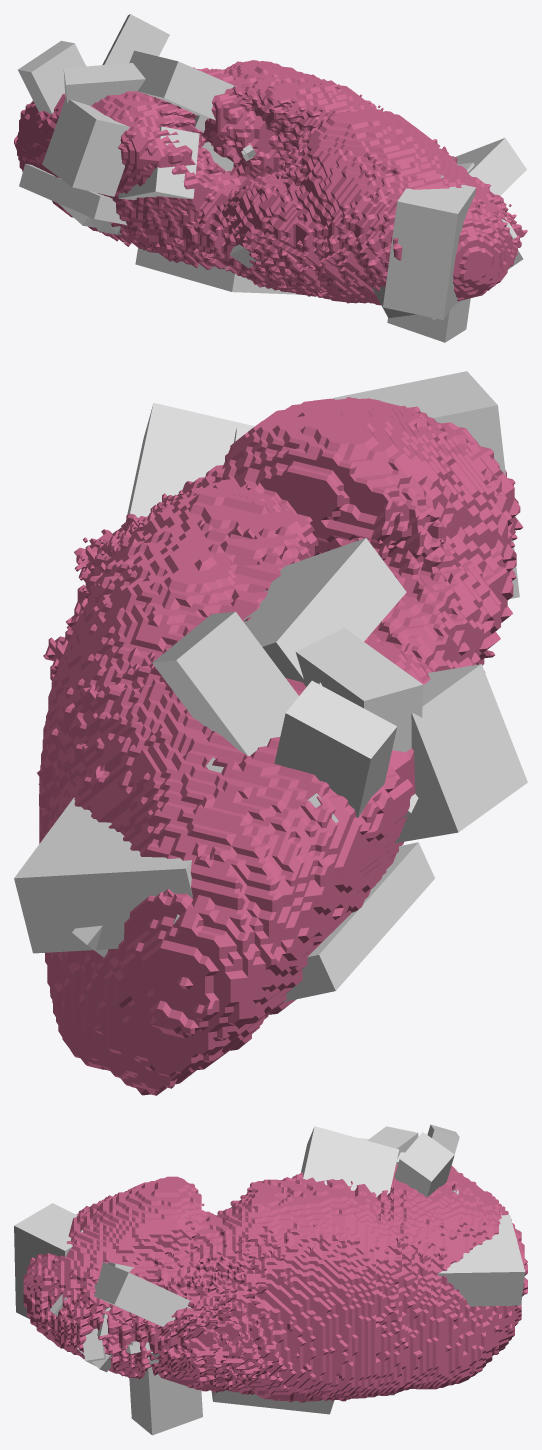
The model's file is non_hra_mapping.glb.
3 views of the same model, one above another, from view 1: azimuth 30°, elevation 25°; view 2: azimuth 150°, elevation 25°; view 3: azimuth 270°, elevation 25° (orthographic). The views are drawn at different scales.
Parts seen in each view (by area): view 1: world; view 2: world; view 3: world.
Part boxes in pixels (x1,y1,x2,y2): world: (14,14,527,342); world: (14,371,527,1095); world: (14,1124,527,1435).
Size of the model in its own units: 91.6 by 67.83 by 136.
